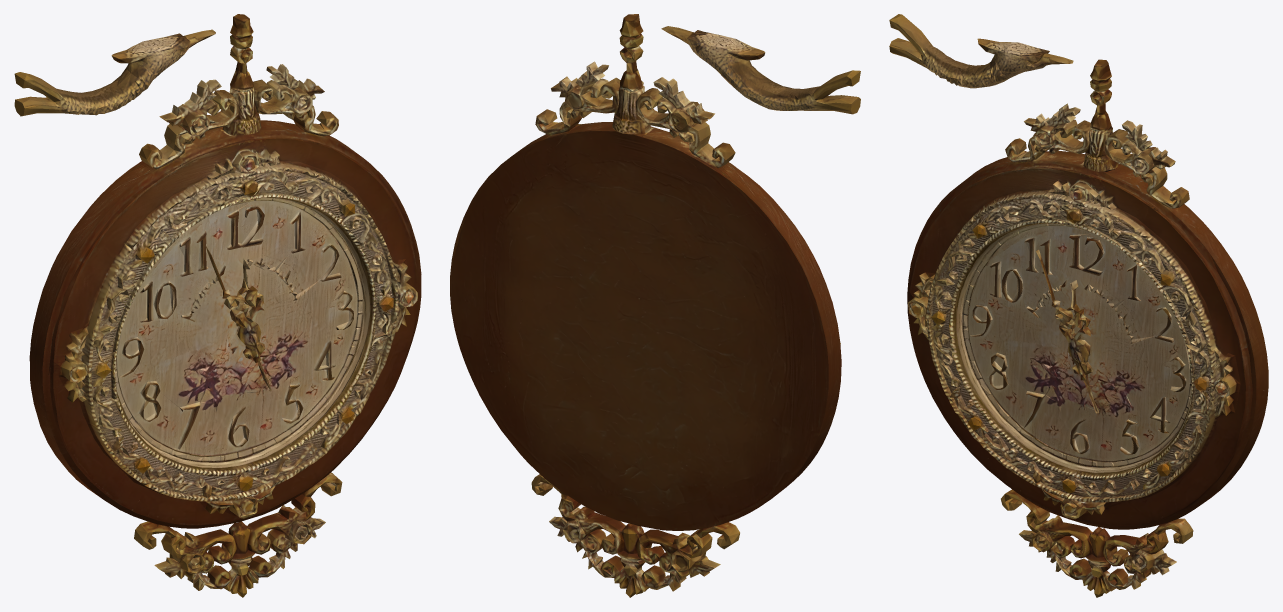
The model's file is 餐厅挂钟.glb.
3 views of the same model, side by side, from view 1: azimuth 30°, elevation 25°; view 2: azimuth 150°, elevation 25°; view 3: azimuth 330°, elevation 25° (orthographic). The views are drawn at different scales.
Visible parts, largest first — view 1: model; view 2: model; view 3: model.
Boxes of the visible parts, bbox=[...] form: model: bbox=[14, 14, 421, 597]; model: bbox=[450, 14, 860, 597]; model: bbox=[889, 14, 1268, 597].
Size of the model in its own units: 1.36 by 1.9 by 0.1869.
Materials: 1 (1 with a texture image).
